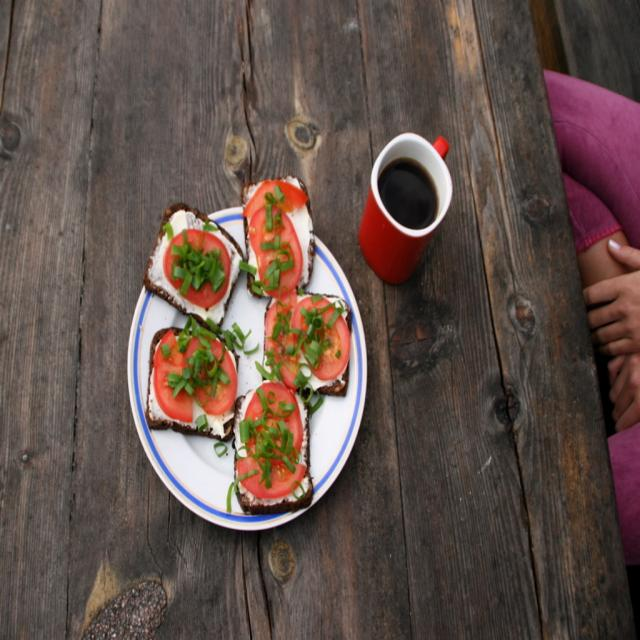Coffee: (362, 124, 458, 292)
Tea: (377, 161, 437, 230)
